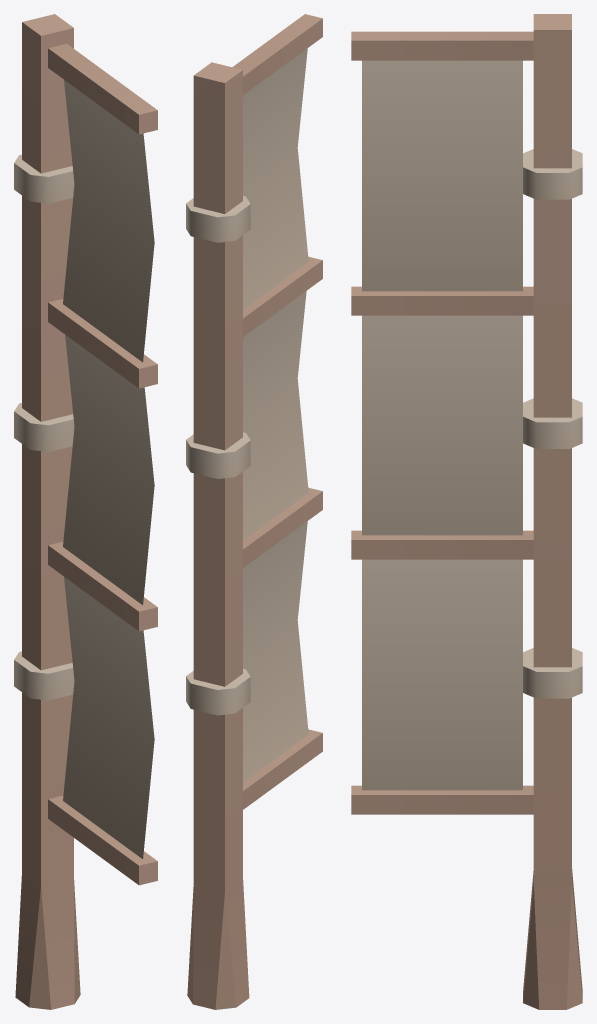
The model's file is blade.glb.
3 renders of one model, left to right at view 1: azimuth 30°, elevation 25°; view 2: azimuth 150°, elevation 25°; view 3: azimuth 270°, elevation 25°, orthographic. The views are drawn at different scales.
Visible parts, largest first — view 1: blade; view 2: blade; view 3: blade.
Boxes of the visible parts, x1,y1,x2,y2 form: blade: (14, 14, 157, 1009); blade: (186, 14, 322, 1009); blade: (351, 14, 582, 1009).
Size of the model in its own units: 0.111 by 2 by 0.4304.
